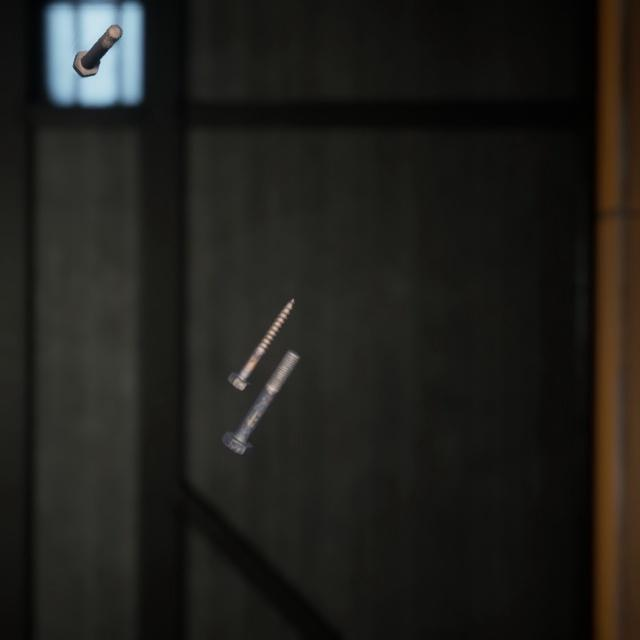bolt: (216, 324, 305, 440), (222, 274, 299, 377), (68, 10, 126, 72)
